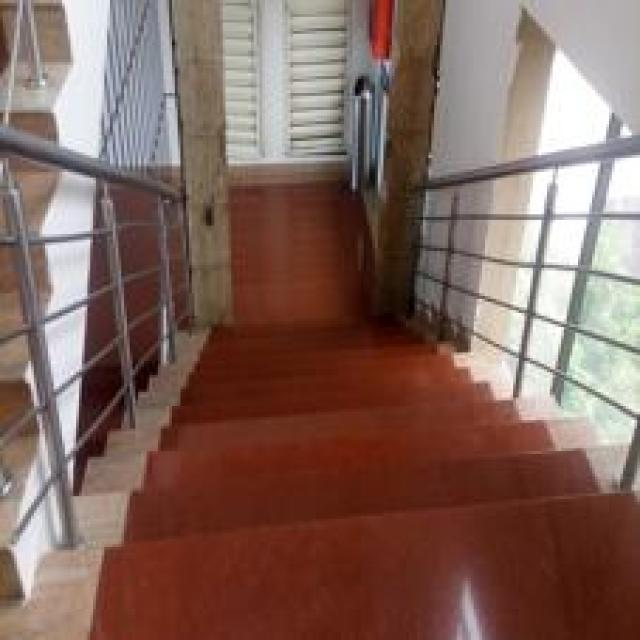stair: (88, 400, 584, 581)
